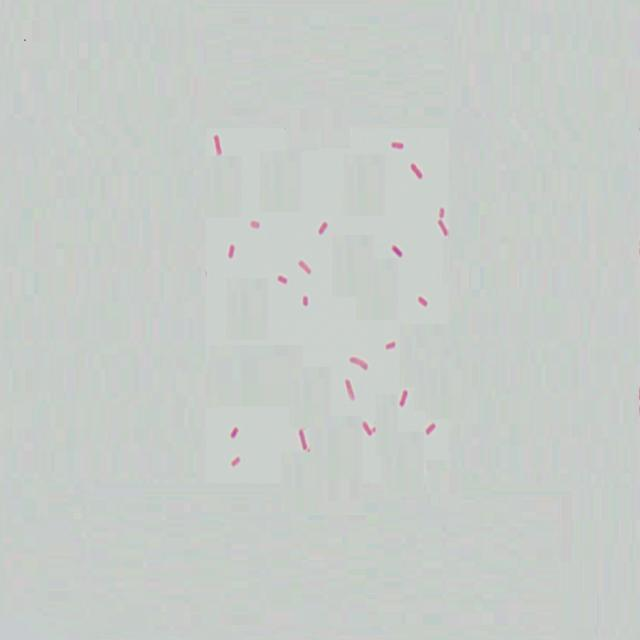E-coli: (347, 351, 370, 374), (407, 158, 426, 184), (311, 217, 332, 240), (295, 422, 310, 453), (388, 242, 408, 265), (211, 130, 226, 158), (343, 376, 358, 404), (423, 418, 440, 440), (298, 256, 313, 280), (414, 292, 431, 312), (379, 336, 400, 352), (229, 451, 243, 473), (225, 236, 237, 260), (398, 385, 410, 409), (391, 136, 406, 155), (298, 290, 312, 310), (363, 419, 375, 441), (437, 221, 451, 238), (250, 214, 261, 234), (228, 423, 239, 443), (277, 272, 289, 288), (440, 201, 446, 221)
